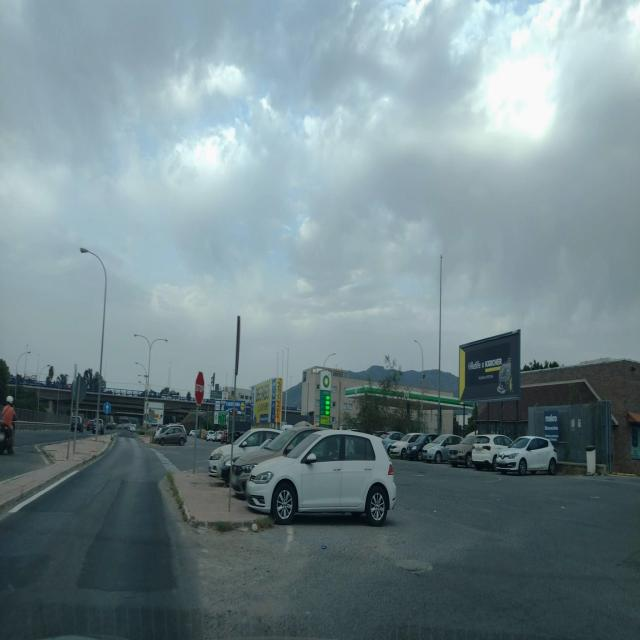car: (246, 427, 396, 526), (234, 427, 326, 491), (208, 428, 282, 483), (494, 435, 558, 476), (470, 434, 512, 470), (449, 432, 487, 467), (422, 433, 462, 464), (404, 432, 438, 461), (388, 433, 419, 458), (154, 424, 188, 446), (86, 418, 105, 434), (70, 415, 84, 431)
